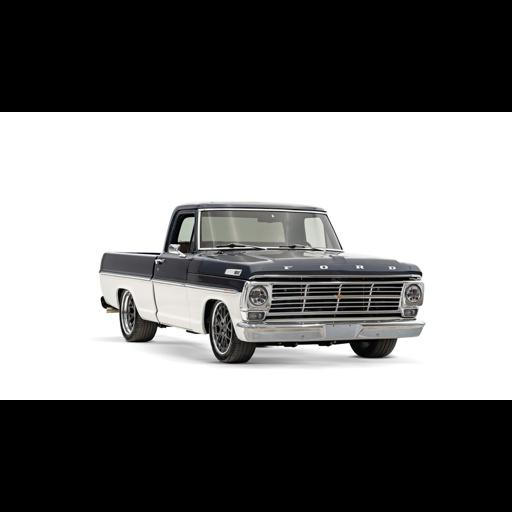truck: (99, 202, 422, 361)
